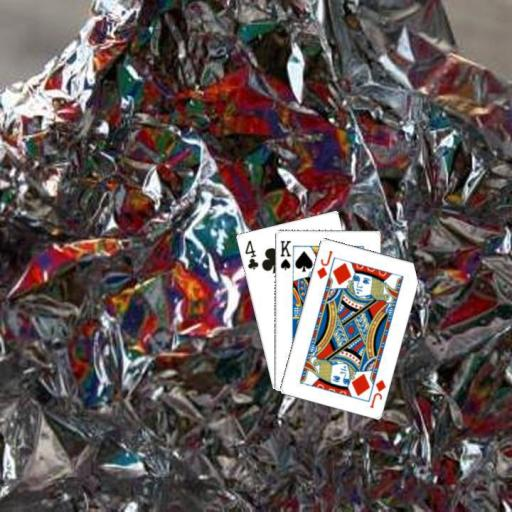4C: (241, 237, 260, 271)
JD: (366, 376, 387, 410), (314, 248, 334, 280)
KS: (277, 237, 292, 272)
